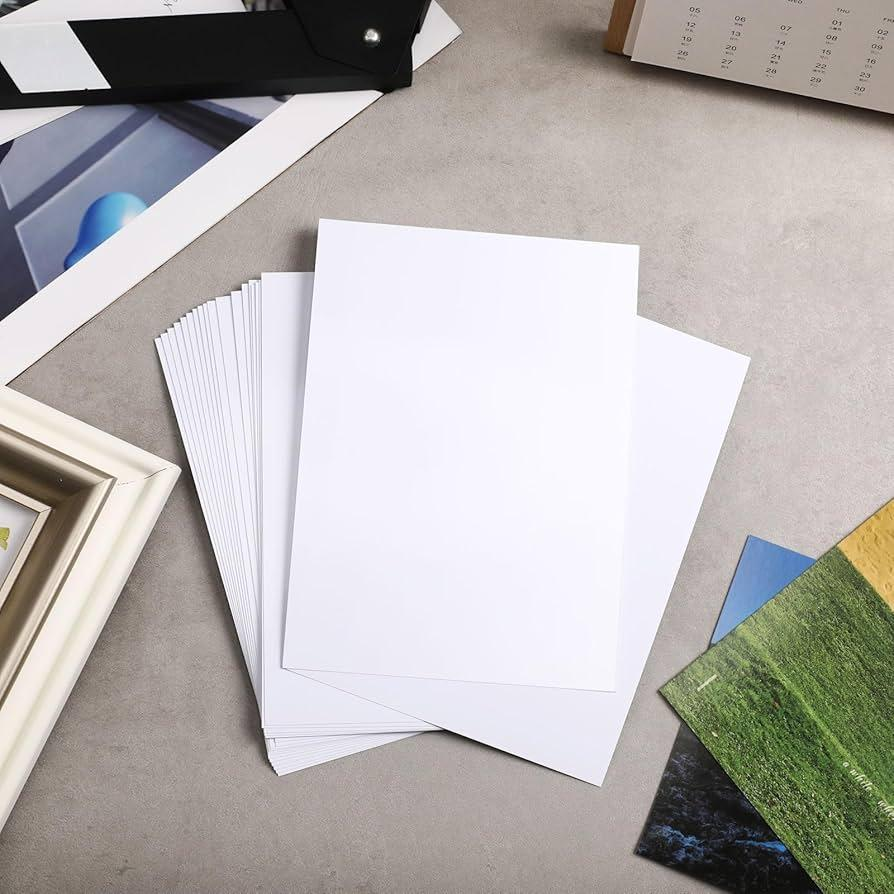plastic: (123, 209, 762, 811)
